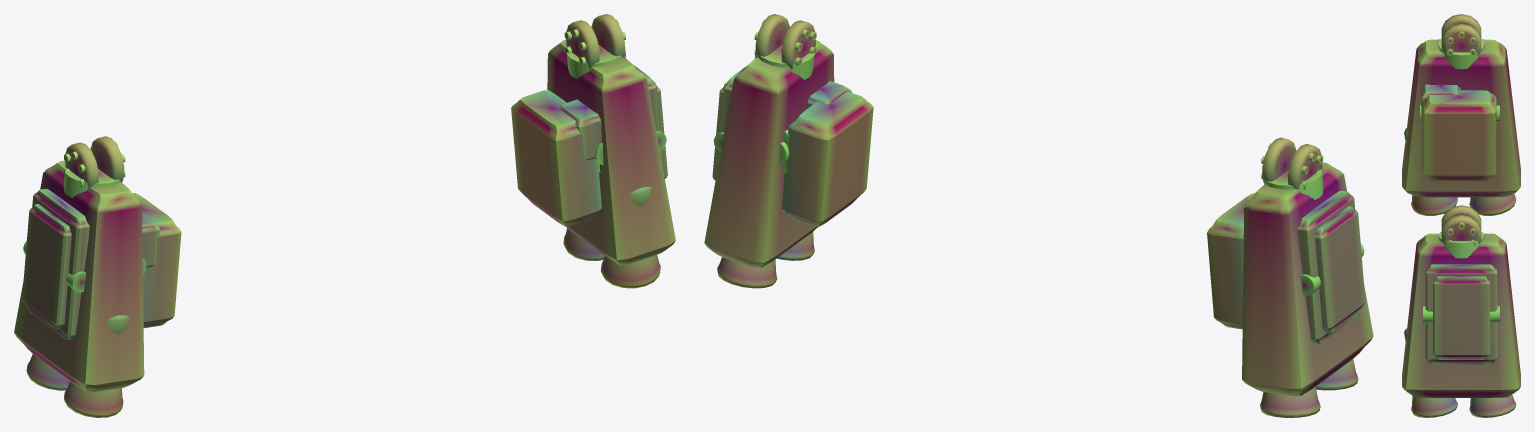
The model's file is llm_gen_leg_thrusters_054_2e9f73.glb.
3 renders of one model, left to right at view 1: azimuth 30°, elevation 25°; view 2: azimuth 150°, elevation 25°; view 3: azimuth 270°, elevation 25°, orthographic. The views are drawn at different scales.
Visible parts, largest first — view 1: flare_cowling_main_0_cobalt_anodized_l, flare_cowling_main_0_cobalt_anodized_r, adapter_calf_clamp_r, flare_louver_gold_3_optic_cyan_l, adapter_calf_clamp_l, adapter_sub_louver_frame_dark_1_adapter_dark_l, servo_5_servo_accent_r, servo_5_servo_accent_l, flare_bell_fwd_6_vernier_bell_vernier_l, flare_bell_fwd_6_vernier_bell_vernier_r, adapter_leg_knee_mount_dark_8_adapter_dark_r, flare_bell_aft_7_vernier_bell_vernier_l (+4 smaller); view 2: flare_cowling_main_0_cobalt_anodized_l, flare_cowling_main_0_cobalt_anodized_r, adapter_calf_clamp_r, flare_louver_gold_3_optic_cyan_l, adapter_calf_clamp_l, adapter_sub_louver_frame_dark_1_adapter_dark_l, servo_5_servo_accent_r, servo_5_servo_accent_l, flare_bell_aft_7_vernier_bell_vernier_l, flare_bell_aft_7_vernier_bell_vernier_r, adapter_sub_top_cap_dark_4_adapter_dark_l, flare_bell_fwd_6_vernier_bell_vernier_l (+2 smaller); view 3: flare_cowling_main_0_cobalt_anodized_r, flare_cowling_main_0_cobalt_anodized_l, adapter_calf_clamp_l, flare_louver_gold_3_optic_cyan_r, adapter_sub_louver_frame_dark_1_adapter_dark_r, servo_5_servo_accent_l, servo_5_servo_accent_r, flare_bell_aft_7_vernier_bell_vernier_r, flare_bell_fwd_6_vernier_bell_vernier_r, flare_bell_aft_7_vernier_bell_vernier_l, flare_bell_fwd_6_vernier_bell_vernier_l, adapter_sub_top_cap_dark_4_adapter_dark_r (+5 smaller).
Boxes of the visible parts, bbox=[...] form: flare_cowling_main_0_cobalt_anodized_l: bbox=[14, 160, 144, 392]; flare_cowling_main_0_cobalt_anodized_r: bbox=[547, 40, 675, 265]; adapter_calf_clamp_r: bbox=[511, 90, 601, 226]; flare_louver_gold_3_optic_cyan_l: bbox=[22, 204, 71, 329]; adapter_calf_clamp_l: bbox=[132, 193, 181, 328]; adapter_sub_louver_frame_dark_1_adapter_dark_l: bbox=[24, 188, 89, 340]; servo_5_servo_accent_r: bbox=[565, 14, 624, 68]; servo_5_servo_accent_l: bbox=[65, 136, 124, 187]; flare_bell_fwd_6_vernier_bell_vernier_l: bbox=[64, 381, 123, 417]; flare_bell_fwd_6_vernier_bell_vernier_r: bbox=[600, 255, 660, 288]; adapter_leg_knee_mount_dark_8_adapter_dark_r: bbox=[559, 99, 601, 160]; flare_bell_aft_7_vernier_bell_vernier_l: bbox=[26, 354, 69, 390]; flare_cowling_main_0_cobalt_anodized_l: bbox=[1242, 162, 1373, 396]; flare_cowling_main_0_cobalt_anodized_r: bbox=[704, 40, 834, 267]; adapter_calf_clamp_r: bbox=[782, 91, 873, 226]; flare_louver_gold_3_optic_cyan_l: bbox=[1315, 206, 1365, 332]; adapter_calf_clamp_l: bbox=[1207, 193, 1255, 329]; adapter_sub_louver_frame_dark_1_adapter_dark_l: bbox=[1297, 190, 1362, 343]; servo_5_servo_accent_r: bbox=[755, 14, 815, 69]; servo_5_servo_accent_l: bbox=[1262, 137, 1322, 189]; flare_bell_aft_7_vernier_bell_vernier_l: bbox=[1260, 387, 1320, 417]; flare_bell_aft_7_vernier_bell_vernier_r: bbox=[717, 257, 777, 288]; adapter_sub_top_cap_dark_4_adapter_dark_l: bbox=[1264, 169, 1323, 199]; flare_bell_fwd_6_vernier_bell_vernier_l: bbox=[1315, 359, 1358, 390]; flare_cowling_main_0_cobalt_anodized_r: bbox=[1402, 233, 1520, 397]; flare_cowling_main_0_cobalt_anodized_l: bbox=[1402, 39, 1520, 197]; adapter_calf_clamp_l: bbox=[1422, 90, 1496, 180]; flare_louver_gold_3_optic_cyan_r: bbox=[1433, 276, 1489, 359]; adapter_sub_louver_frame_dark_1_adapter_dark_r: bbox=[1425, 264, 1497, 364]; servo_5_servo_accent_l: bbox=[1441, 14, 1481, 55]; servo_5_servo_accent_r: bbox=[1441, 205, 1481, 243]; flare_bell_aft_7_vernier_bell_vernier_r: bbox=[1469, 394, 1516, 417]; flare_bell_fwd_6_vernier_bell_vernier_r: bbox=[1411, 395, 1457, 417]; flare_bell_aft_7_vernier_bell_vernier_l: bbox=[1469, 194, 1516, 215]; flare_bell_fwd_6_vernier_bell_vernier_l: bbox=[1411, 195, 1457, 215]; adapter_sub_top_cap_dark_4_adapter_dark_r: bbox=[1438, 231, 1484, 258].
Bounding box in the file's own units: 81.56 × 31.62 × 17.5.
